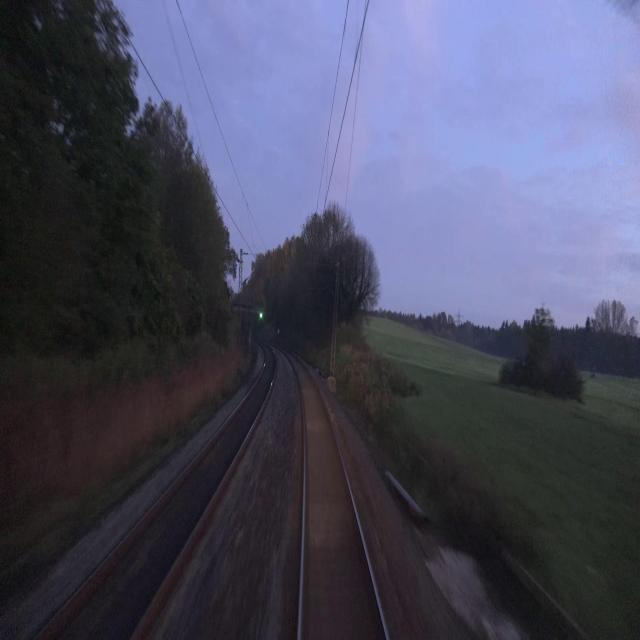rail-track: (38, 346, 274, 639), (289, 354, 385, 639)
